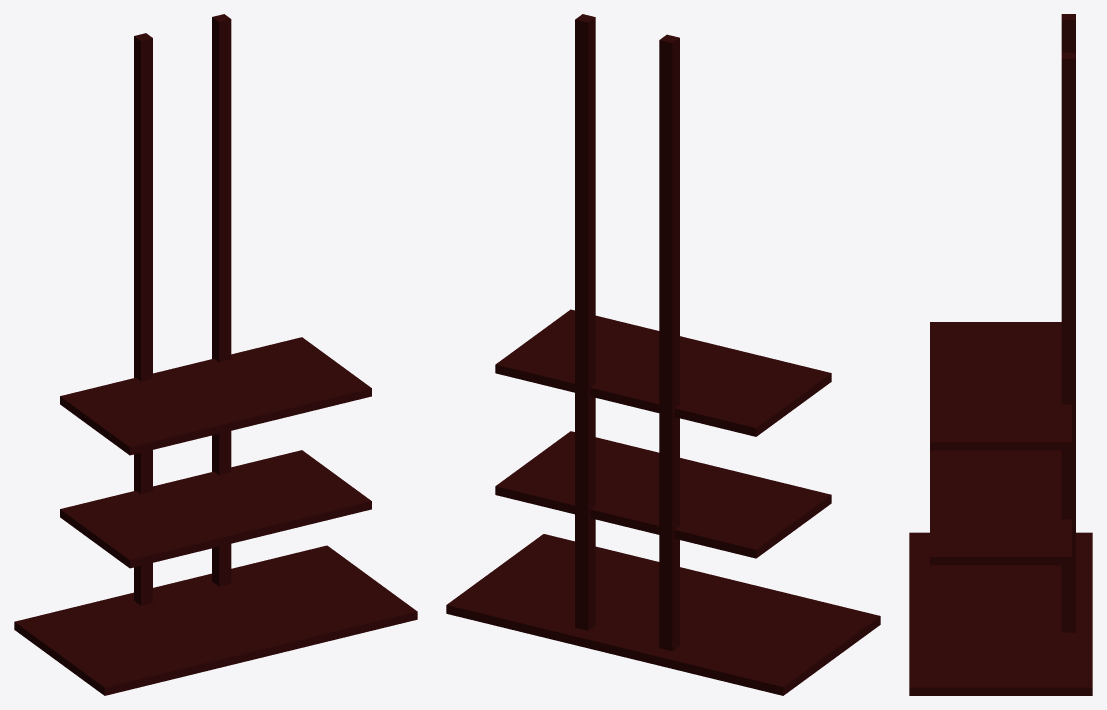
The model's file is TV Stand.glb.
3 renders of one model, left to right at view 1: azimuth 30°, elevation 25°; view 2: azimuth 150°, elevation 25°; view 3: azimuth 270°, elevation 25°, orthographic. The views are drawn at different scales.
Parts seen in each view (by area): view 1: TV Stand; view 2: TV Stand; view 3: TV Stand.
Boxes of the visible parts, left/top/right/bottom form: TV Stand: left=14, top=14, right=417, bottom=695; TV Stand: left=446, top=14, right=880, bottom=695; TV Stand: left=909, top=14, right=1092, bottom=695.
Bounding box in the file's own units: 7.2 × 12.6 × 3.6.
